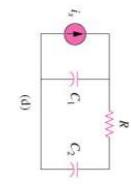Capacitor: (62, 68, 83, 90)
